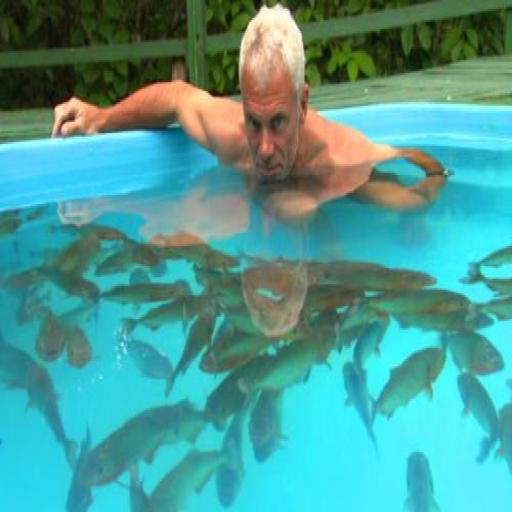swimming: (49, 2, 454, 237)
